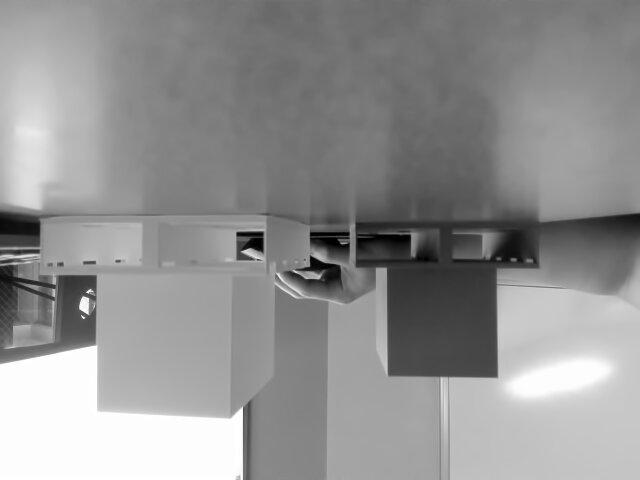grey pallet: (331, 212, 550, 392)
white pallet: (26, 197, 321, 431)
